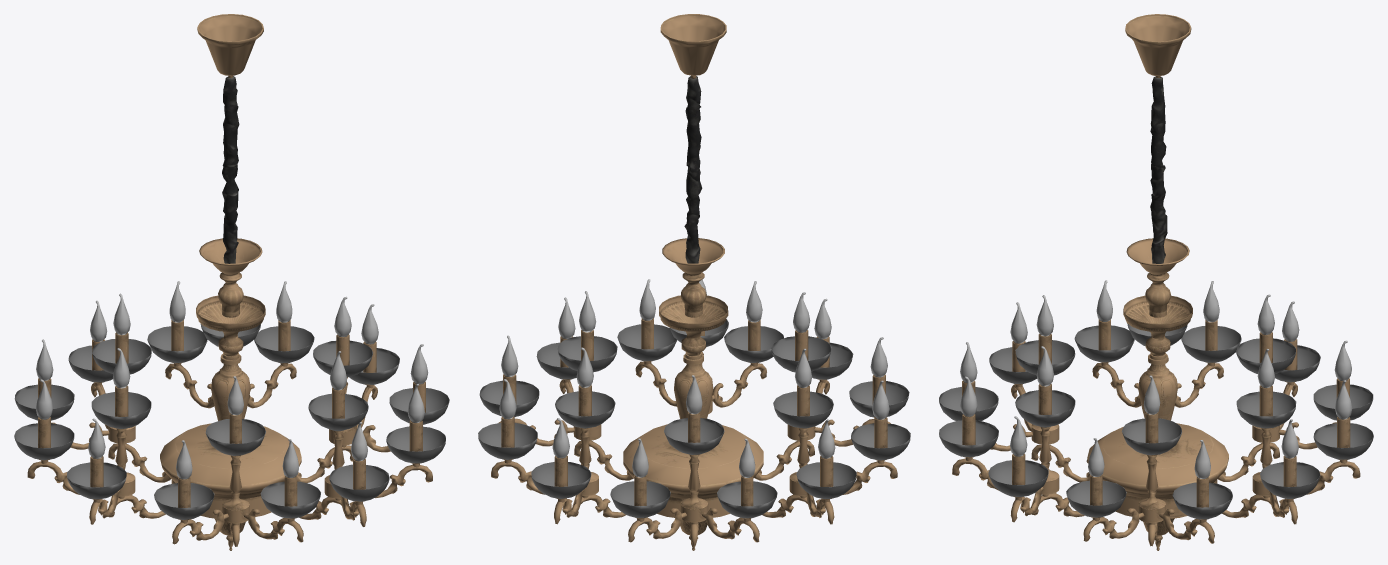
The model's file is Chandelier_03.fbx.
3 renders of one model, left to right at view 1: azimuth 30°, elevation 25°; view 2: azimuth 150°, elevation 25°; view 3: azimuth 270°, elevation 25°, orthographic.
Parts seen in each view (by area): view 1: Chandelier_03.001; view 2: Chandelier_03.001; view 3: Chandelier_03.001.
Part boxes in pixels (<box>): Chandelier_03.001: <box>14,14,449,550</box>; Chandelier_03.001: <box>478,14,910,550</box>; Chandelier_03.001: <box>939,14,1373,550</box>.
Bounding box in the file's own units: 78.07 × 104 × 78.51.
